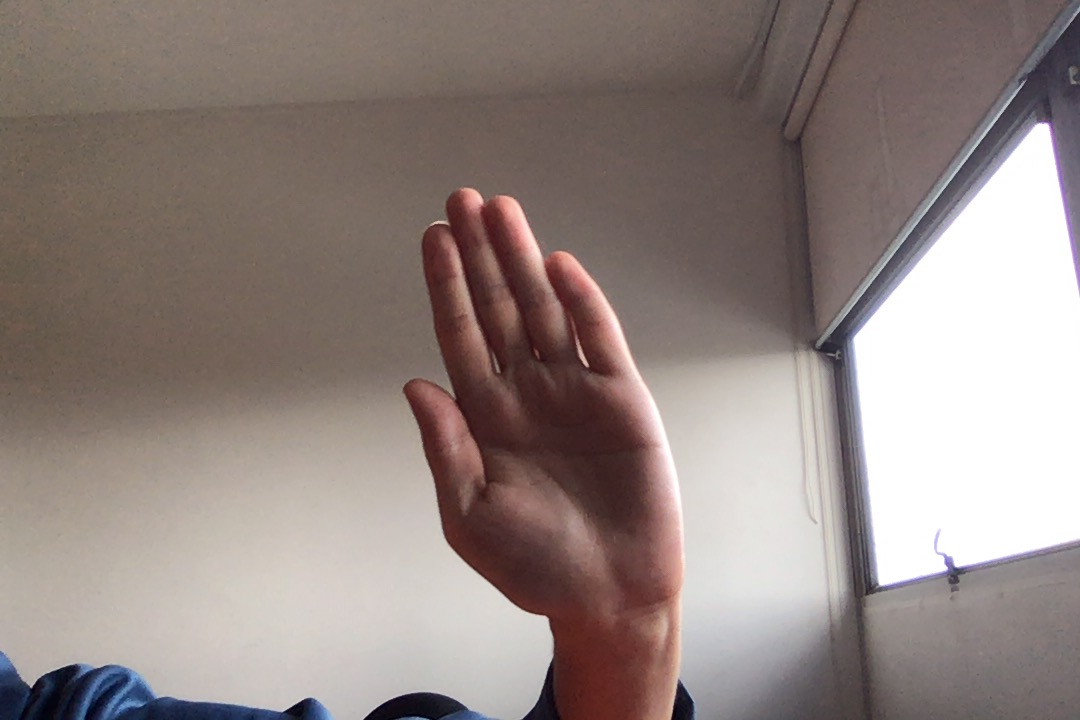palmhand: (392, 180, 690, 620)
